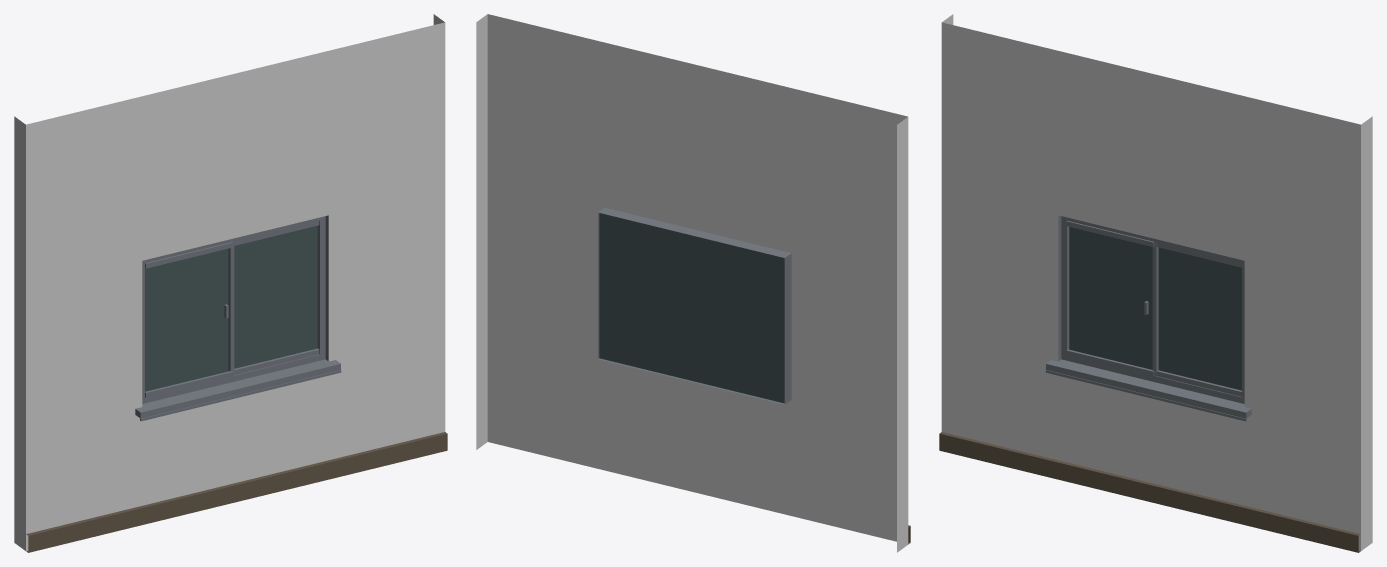
Rendered from mid-stair3_close.fbx.
The picture shows the model from 3 angles, left to right: view 1: azimuth 30°, elevation 25°; view 2: azimuth 150°, elevation 25°; view 3: azimuth 330°, elevation 25°; orthographic projection.
Parts seen in each view (by area): view 1: a2000/0/mid-stair_close; view 2: a2000/0/mid-stair_close; view 3: a2000/0/mid-stair_close.
Part boxes in pixels (box(x1,y1,x2,y2)): a2000/0/mid-stair_close: box(14, 14, 447, 552); a2000/0/mid-stair_close: box(476, 14, 910, 552); a2000/0/mid-stair_close: box(939, 14, 1372, 552).
Size of the model in its own units: 3.6 by 3.5 by 0.255.
